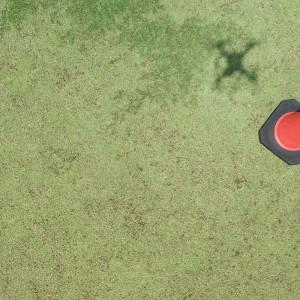traffic cone: (258, 98, 300, 166)
